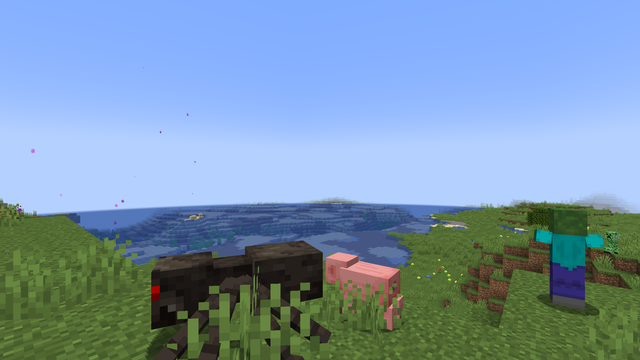araignees: (133, 229, 322, 359)
cochons: (337, 257, 400, 331)
creepers: (605, 230, 618, 254)
zombies: (547, 209, 589, 314)
